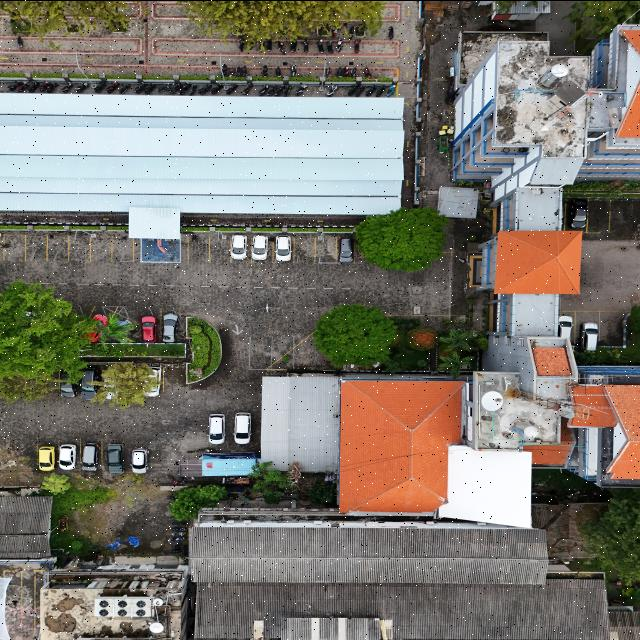Tree: (349, 205, 451, 277), (314, 296, 401, 372), (93, 352, 166, 409), (157, 474, 227, 525)
